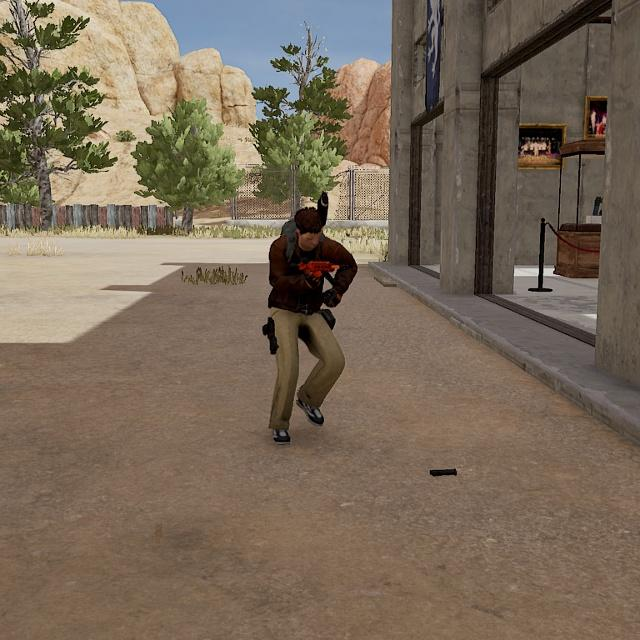head: (290, 206, 329, 253)
people: (255, 204, 358, 447)
